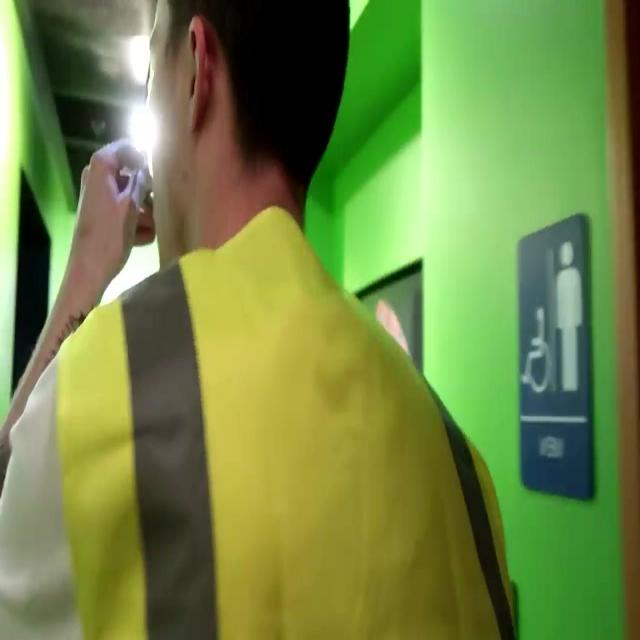Reflective-Jacket: (40, 215, 524, 639)
